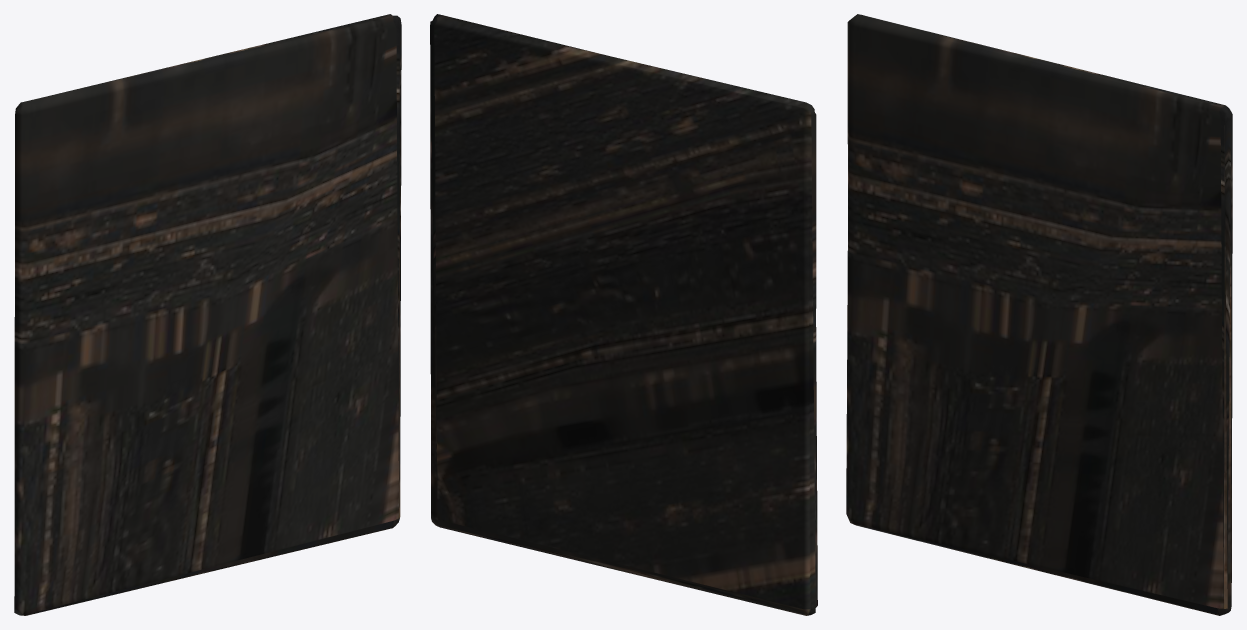
Rendered from hospital sign3.fbx.
3 views of the same model, side by side, from view 1: azimuth 30°, elevation 25°; view 2: azimuth 150°, elevation 25°; view 3: azimuth 330°, elevation 25° (orthographic).
Parts seen in each view (by area): view 1: hospital sign3; view 2: hospital sign3; view 3: hospital sign3.
Boxes of the visible parts, box(x1,y1,x2,y2) form: hospital sign3: box(14, 14, 401, 615); hospital sign3: box(430, 14, 817, 615); hospital sign3: box(846, 14, 1232, 615).
Bounding box in the file's own units: 232 × 297 × 8.32.
